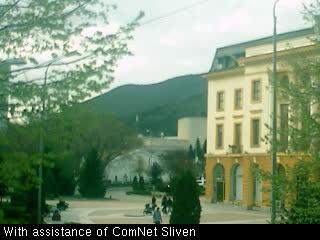person: (153, 207, 163, 225), (162, 195, 170, 215), (166, 196, 174, 216), (151, 197, 157, 210), (144, 203, 150, 215)
